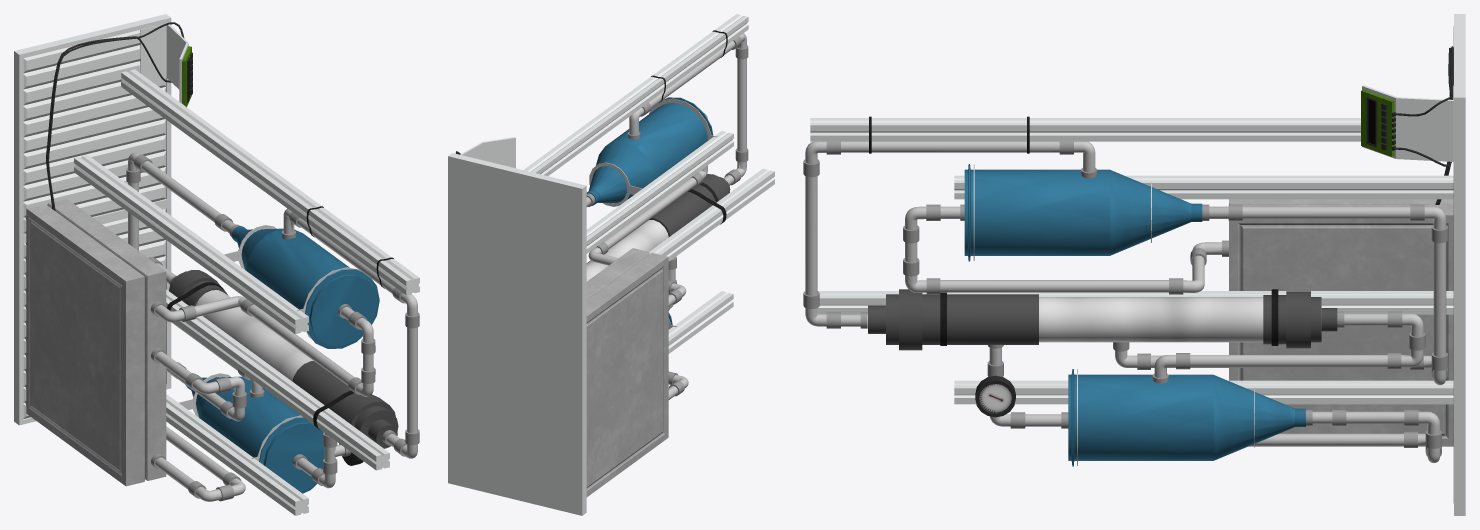
Rendered from Purificatore.fbx.
The picture shows the model from 3 angles, left to right: view 1: azimuth 30°, elevation 25°; view 2: azimuth 150°, elevation 25°; view 3: azimuth 270°, elevation 25°; orthographic projection. The views are drawn at different scales.
Visible parts, largest first — view 1: ScatolaControllo, Base, TanicaAcqua_01, SupportLong_01, Filtro, TanicaAcqua_02, supportShort_02, SupportLong_02, SupportShort_01, Pannnello, TubeConnection_Straight_18, TubeConnection_Straight_12 (+13 smaller); view 2: Base, ScatolaControllo, TanicaAcqua_01, SupportLong_01, supportShort_02, Filtro, SupportLong_02, SupportShort_01, TubeConnection_Straight_18, TubeConnection_Straight_12, Pannnello, TubeConnection_Straight_15 (+3 smaller); view 3: ScatolaControllo, Filtro, TanicaAcqua_01, TanicaAcqua_02, SupportLong_01, supportShort_02, SupportShort_01, Base, SupportLong_02, Pannnello, TubeConnection_Straight_18, TubeConnection_Straight_13 (+9 smaller).
Boxes of the visible parts, box(x1,y1,x2,y2) form: ScatolaControllo: box(25, 198, 166, 486); Base: box(14, 14, 171, 425); TanicaAcqua_01: box(231, 226, 379, 348); SupportLong_01: box(121, 69, 419, 295); Filtro: box(169, 270, 398, 448); TanicaAcqua_02: box(186, 375, 324, 493); supportShort_02: box(74, 155, 308, 334); SupportLong_02: box(166, 289, 389, 470); SupportShort_01: box(166, 394, 308, 515); Pannnello: box(140, 24, 192, 106); TubeConnection_Straight_18: box(244, 301, 360, 391); TubeConnection_Straight_12: box(405, 320, 419, 439); Base: box(448, 153, 586, 515); ScatolaControllo: box(586, 248, 668, 497); TanicaAcqua_01: box(586, 97, 713, 205); SupportLong_01: box(523, 14, 748, 175); supportShort_02: box(586, 131, 733, 253); Filtro: box(586, 174, 730, 281); SupportLong_02: box(649, 168, 774, 261); SupportShort_01: box(668, 291, 733, 353); TubeConnection_Straight_18: box(601, 174, 700, 253); TubeConnection_Straight_12: box(735, 52, 748, 157); Pannnello: box(460, 137, 515, 168); TubeConnection_Straight_15: box(646, 38, 739, 112); ScatolaControllo: box(1229, 199, 1453, 446); Filtro: box(868, 289, 1337, 350); TanicaAcqua_01: box(964, 164, 1202, 261); TanicaAcqua_02: box(1068, 369, 1305, 466); SupportLong_01: box(810, 118, 1360, 141); supportShort_02: box(954, 175, 1453, 199); SupportShort_01: box(954, 380, 1453, 404); Base: box(1453, 14, 1465, 515); SupportLong_02: box(817, 291, 1453, 314); Pannnello: box(1361, 85, 1453, 161); TubeConnection_Straight_18: box(933, 278, 1175, 294); TubeConnection_Straight_13: box(1183, 353, 1394, 369).
Bounding box in the file's own units: 1.75 × 4 × 5.74.
